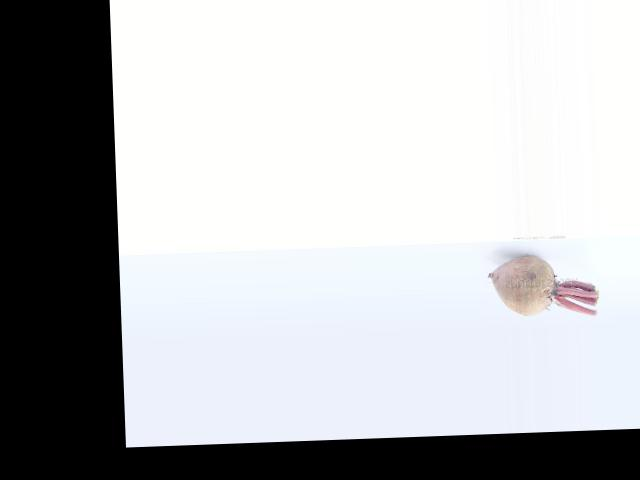beet: (488, 253, 597, 317)
